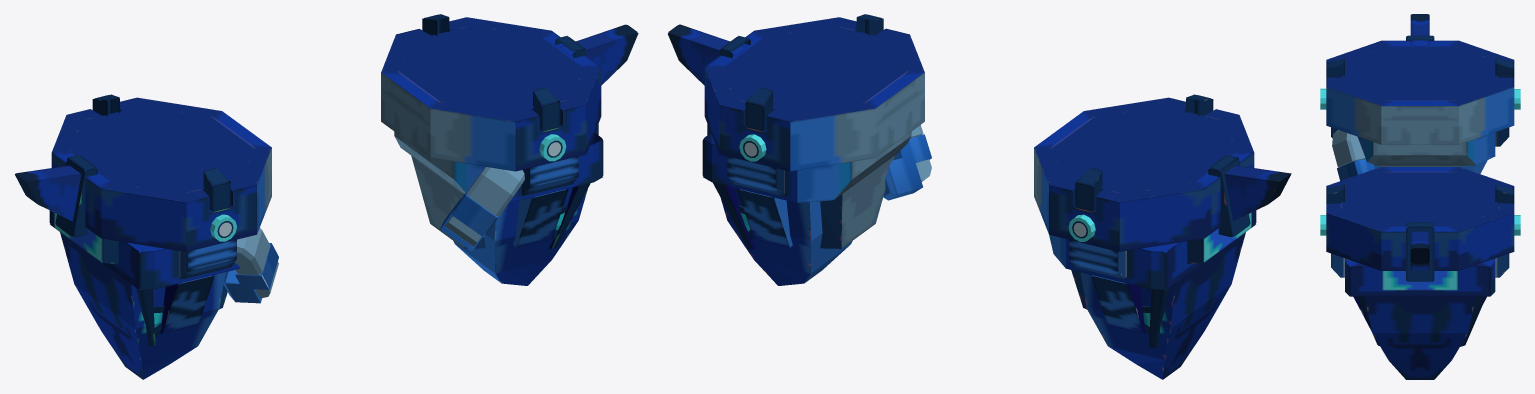
The model's file is gloves17.fbx.
3 renders of one model, left to right at view 1: azimuth 30°, elevation 25°; view 2: azimuth 150°, elevation 25°; view 3: azimuth 270°, elevation 25°, orthographic. The views are drawn at different scales.
Parts seen in each view (by area): view 1: 17, 17.001; view 2: 17.001, 17; view 3: 17.001, 17.
Boxes of the visible parts, x1,y1,x2,y2 form: 17: [15, 94, 278, 379]; 17.001: [381, 14, 638, 285]; 17.001: [668, 14, 931, 285]; 17: [1034, 94, 1291, 379]; 17.001: [1320, 167, 1520, 379]; 17: [1320, 14, 1520, 180].
Size of the model in its own units: 1.78 by 0.6472 by 0.6438.
